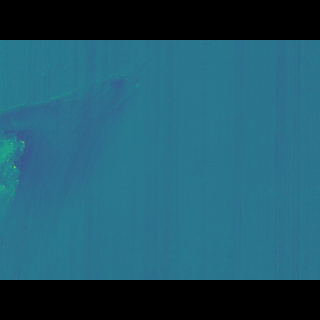Loch: (0, 135, 52, 198)
